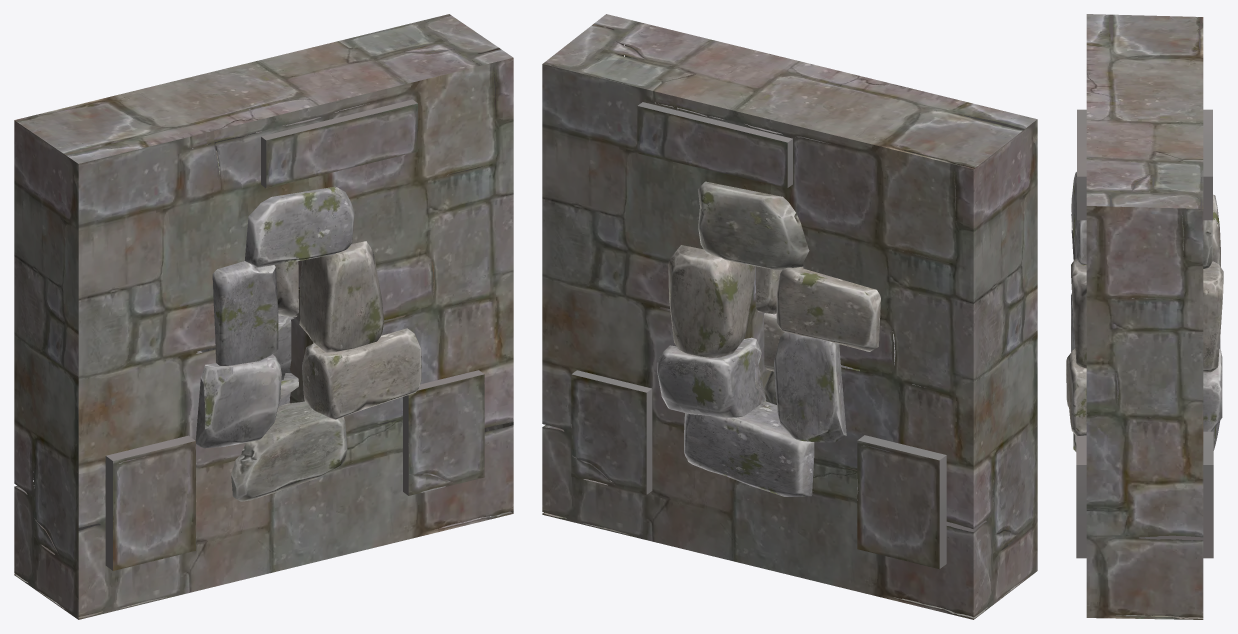
3 renders of one model, left to right at view 1: azimuth 30°, elevation 25°; view 2: azimuth 150°, elevation 25°; view 3: azimuth 270°, elevation 25°, orthographic. The views are drawn at different scales.
Visible parts, largest first — view 1: SM_BB_T3_Wall_Med_v2_LOD0; view 2: SM_BB_T3_Wall_Med_v2_LOD0; view 3: SM_BB_T3_Wall_Med_v2_LOD0.
Part boxes in pixels (x1=…): SM_BB_T3_Wall_Med_v2_LOD0: x1=14, y1=14, x2=513, y2=619; SM_BB_T3_Wall_Med_v2_LOD0: x1=542, y1=14, x2=1037, y2=619; SM_BB_T3_Wall_Med_v2_LOD0: x1=1066, y1=14, x2=1223, y2=619.
Bounding box in the file's own units: 1.5 × 1.51 × 0.5195.
Materials: 2 (2 with a texture image).
